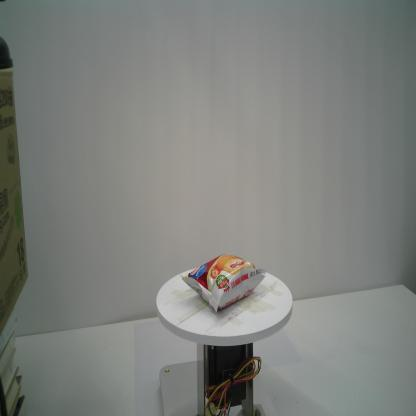Dessert: (178, 251, 266, 313)
